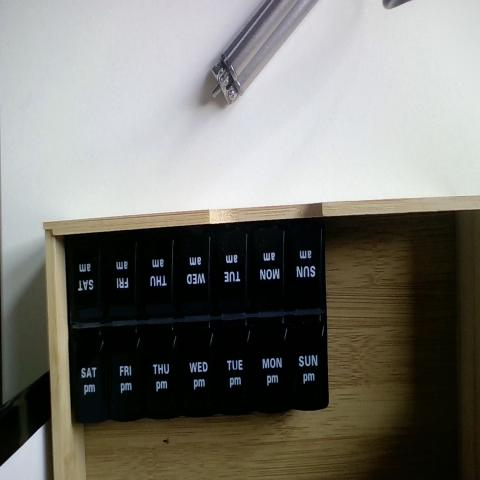FRI-am: (106, 228, 140, 324)
FRI-pm: (107, 323, 142, 418)
MON-am: (248, 219, 284, 310)
MON-pm: (251, 312, 290, 411)
SAT-am: (64, 232, 106, 321)
SAT-pm: (68, 325, 106, 418)
SUN-am: (288, 222, 322, 304)
SUN-pm: (290, 316, 326, 400)
THU-am: (137, 232, 176, 322)
THU-pm: (138, 322, 178, 416)
TUE-am: (213, 227, 250, 311)
TUE-pm: (214, 316, 252, 418)
WED-am: (176, 227, 211, 316)
WED-pm: (179, 321, 215, 420)
